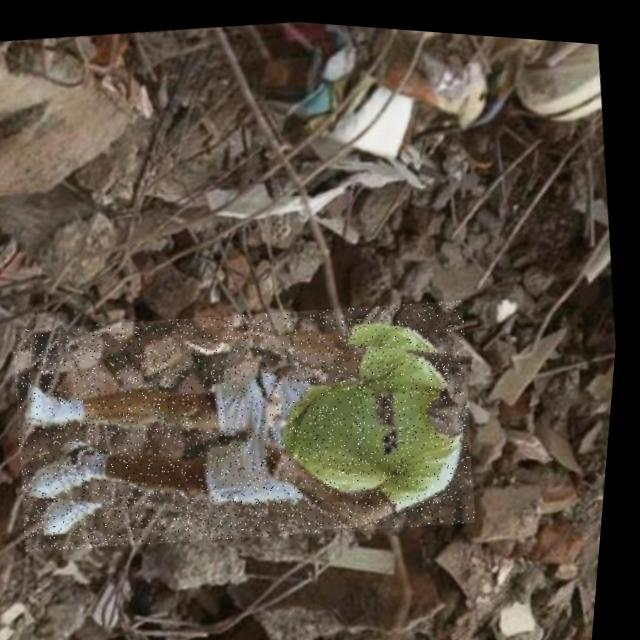Person in Rubble: (3, 267, 497, 577)
